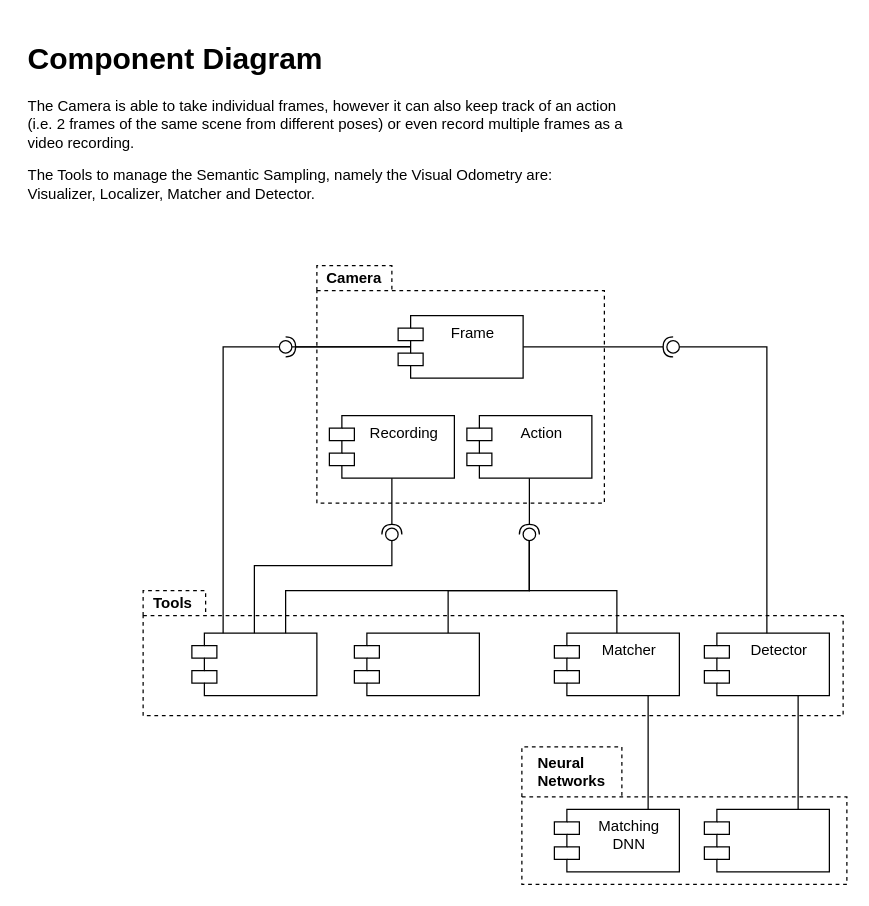
This 869x906 diagram has some shape labels left out. The centre of each missing label's shape, as x and y in pixels:
Detecting DNN: the point at 766,840
Localizer: the point at 416,664
Visualizer: the point at 254,664
